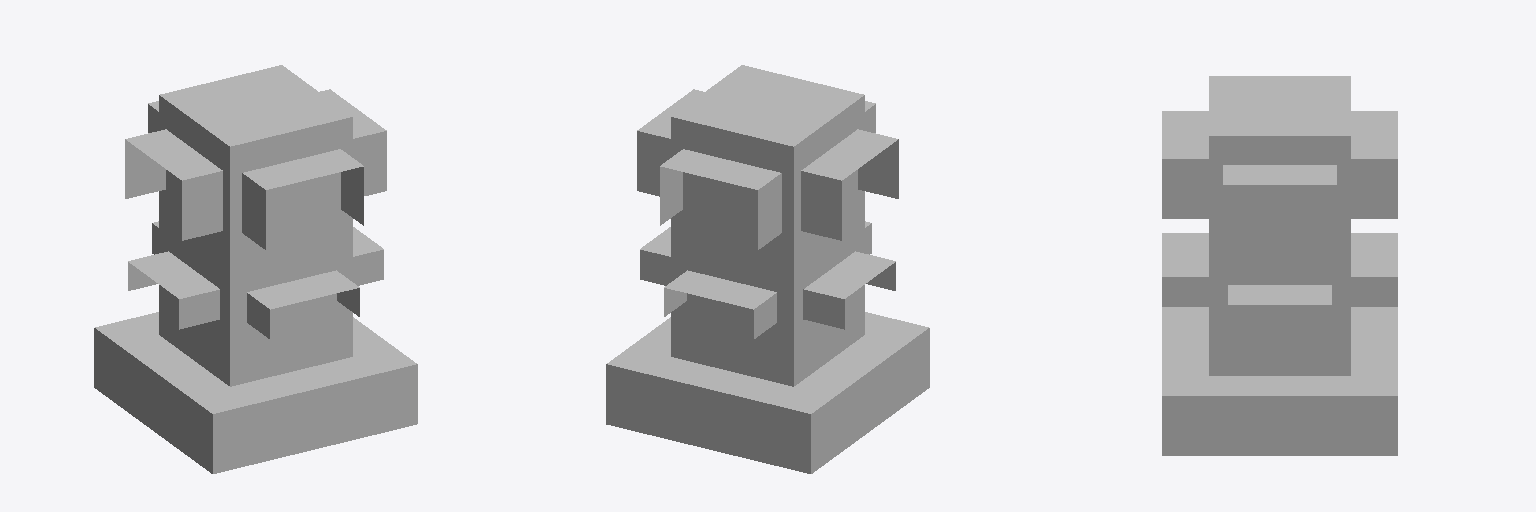
File: wallSquare.obj
The picture shows the model from 3 angles: view 1: azimuth 30°, elevation 25°; view 2: azimuth 150°, elevation 25°; view 3: azimuth 270°, elevation 25°; orthographic projection.
Visible parts, largest first — view 1: mesh08; view 2: mesh08; view 3: mesh08.
Boxes of the visible parts, x1,y1,x2,y2 form: mesh08: [94, 65, 417, 473]; mesh08: [606, 65, 929, 473]; mesh08: [1162, 76, 1397, 455].
Bounding box in the file's own units: 1 × 1.4 × 1.